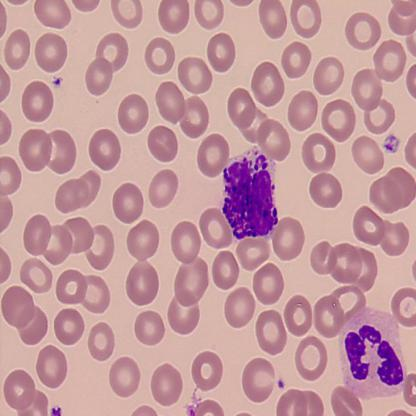Basophil: (339, 304, 408, 401), (218, 146, 281, 244)
